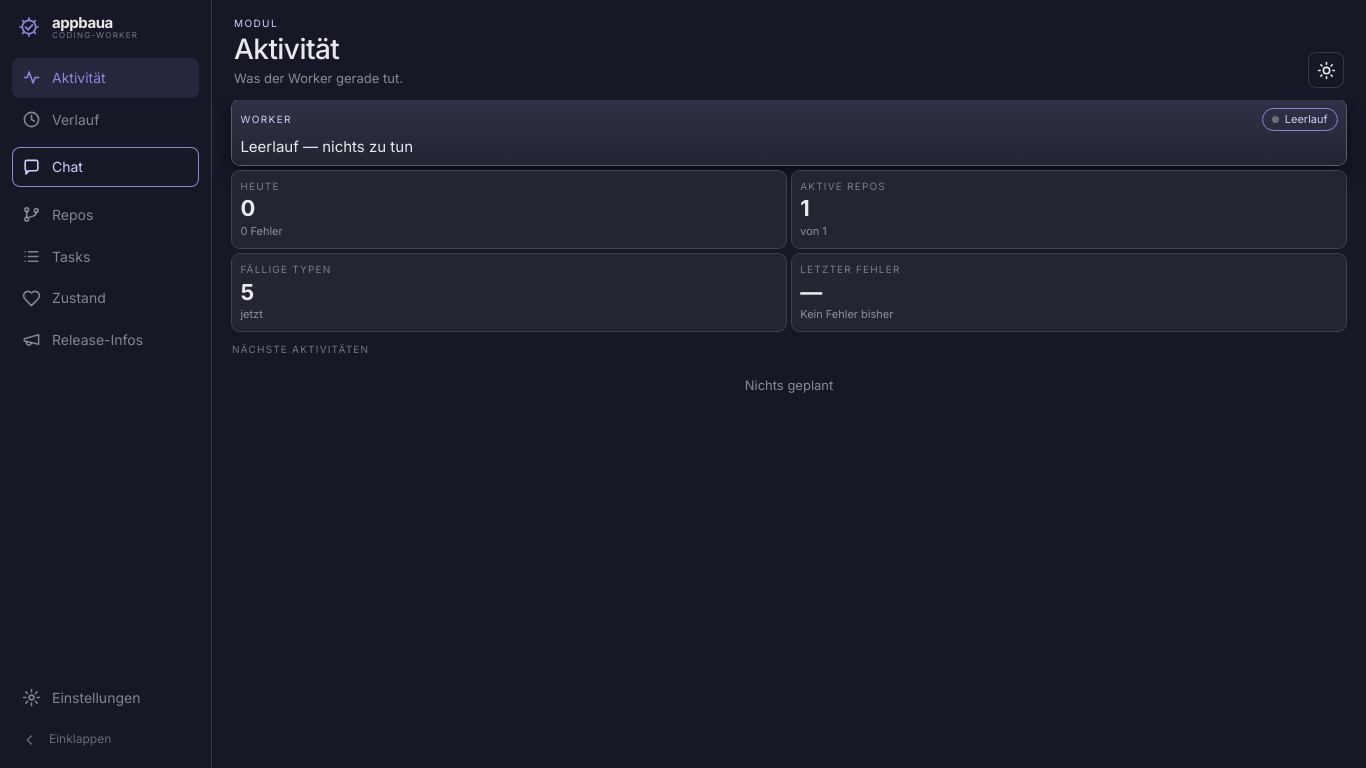
Scenario: Seitenleiste ein-/ausklappen (req-041) › AC7: ein Tipp auf den Aufklapp-Knopf zeigt wieder Symbol und Text
The width and height of the screenshot is (1366, 768).
Check: the text "Leerlauf — nichts zu tun" is shown, box [240,137,413,156]
Click the button with aria-label "Seitenleiste einklappen" at (106, 740), box [12,723,199,756]
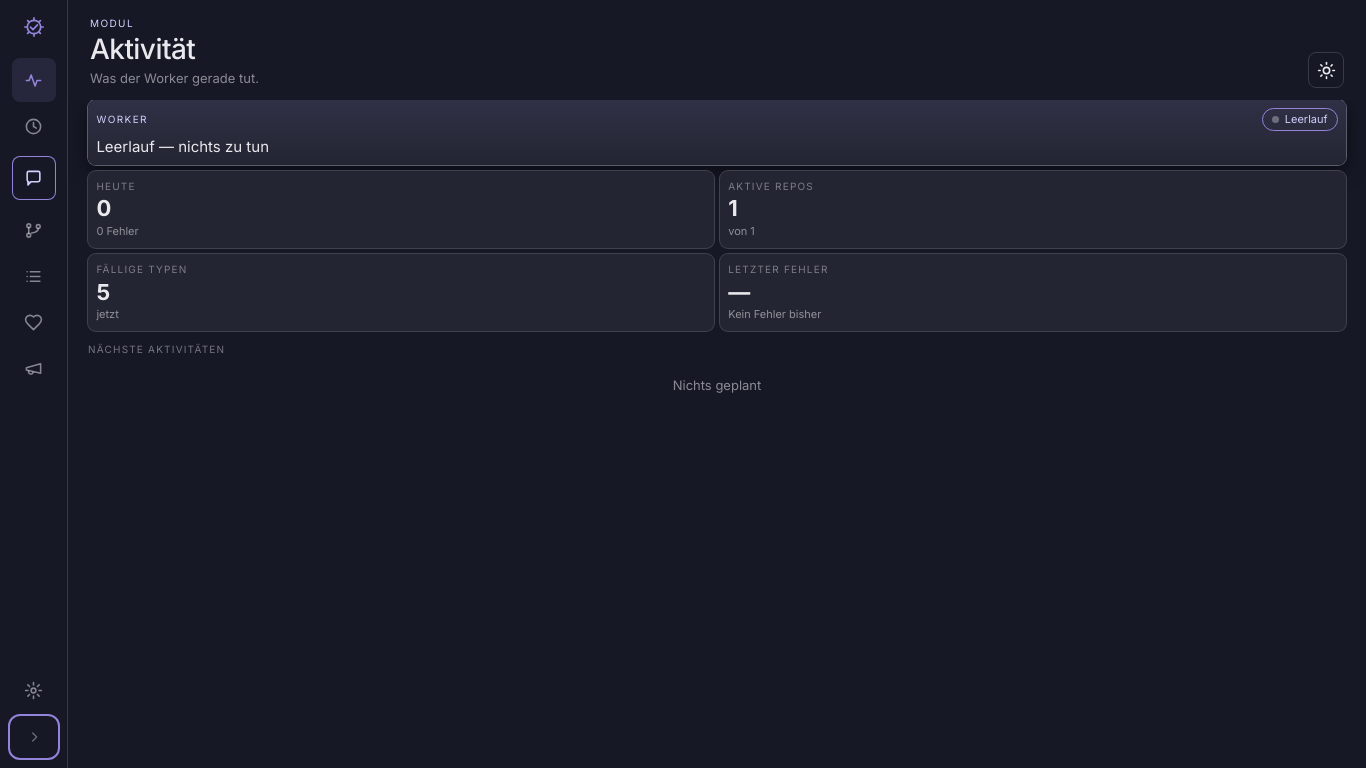
Check: the button named "Aktivität" is empty, box [12,58,56,102]
Click the button named "Seitenleiste aufklappen" at (34, 737), box [12,718,56,756]
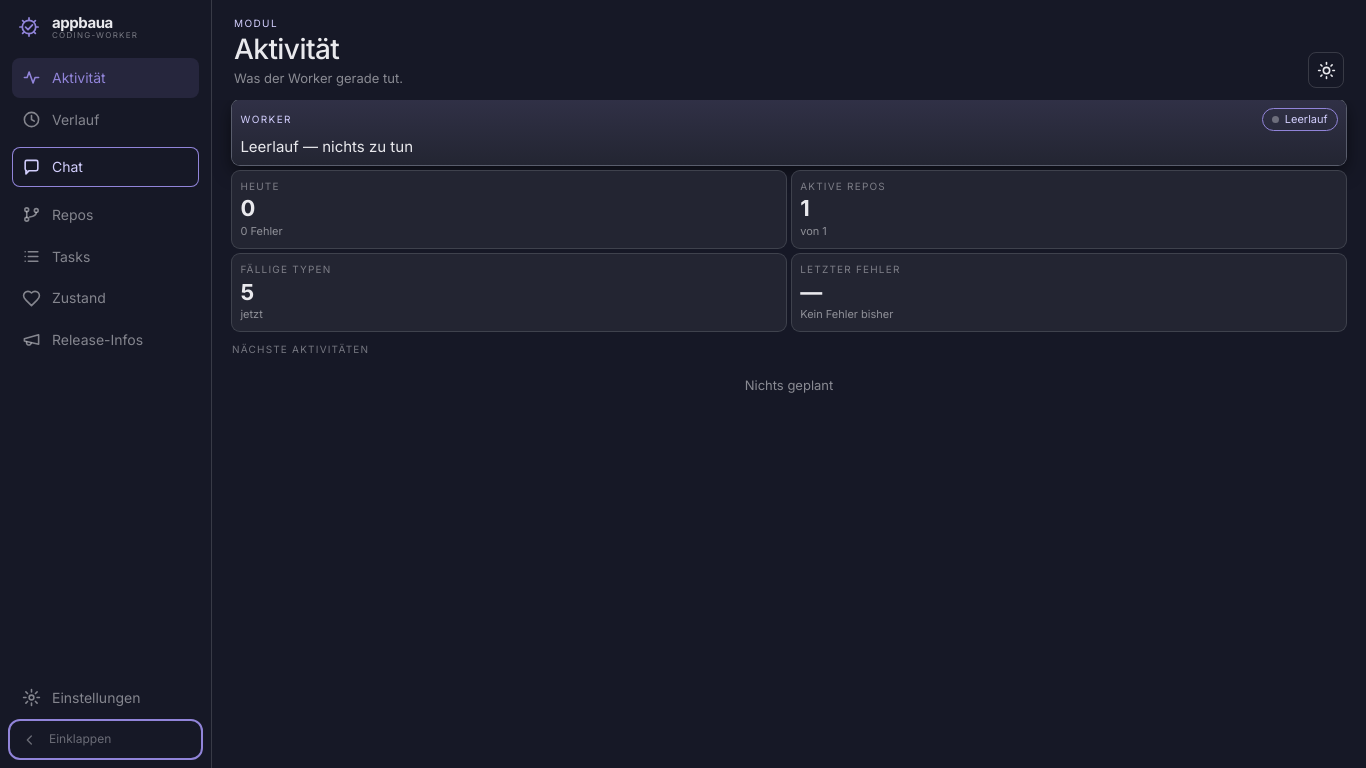
Check: the button "Aktivität" is shown, box [12,58,199,98]
